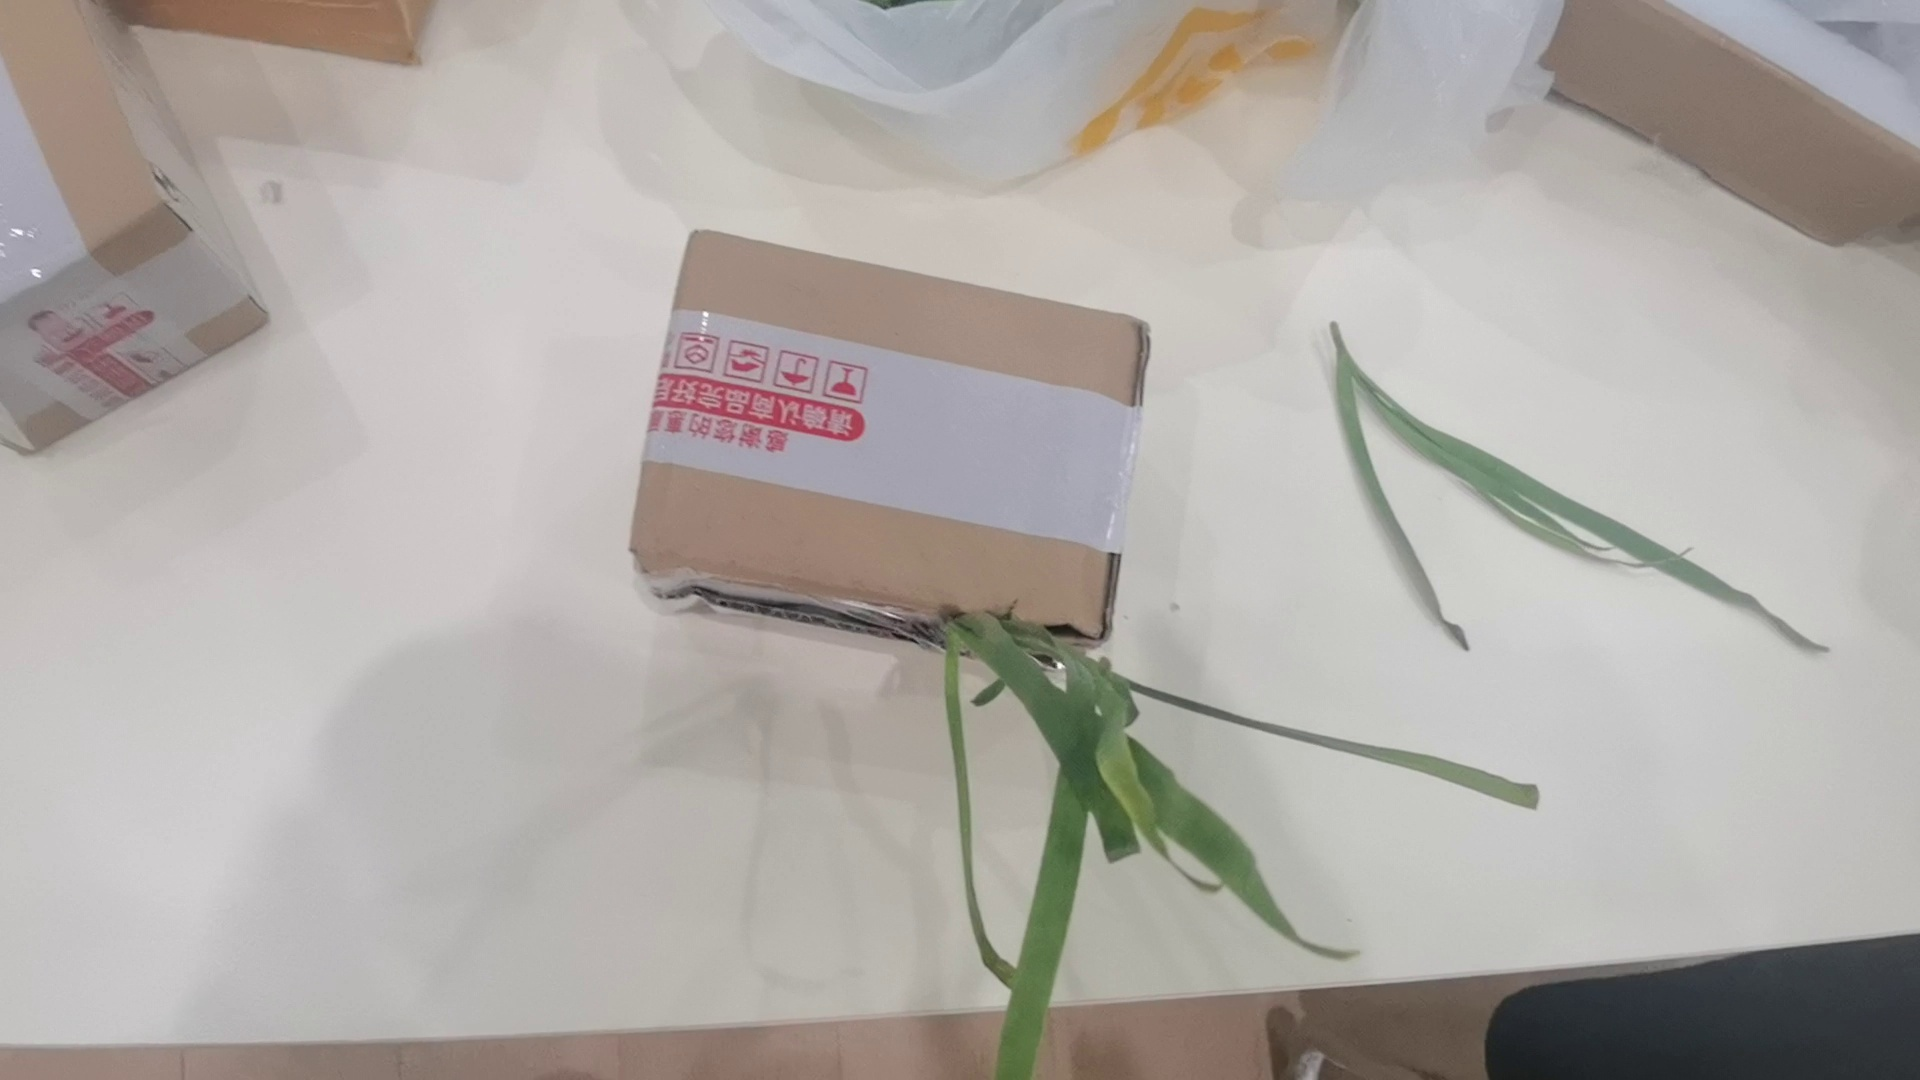chives: (812, 617, 1619, 1080), (1315, 297, 1858, 670)
